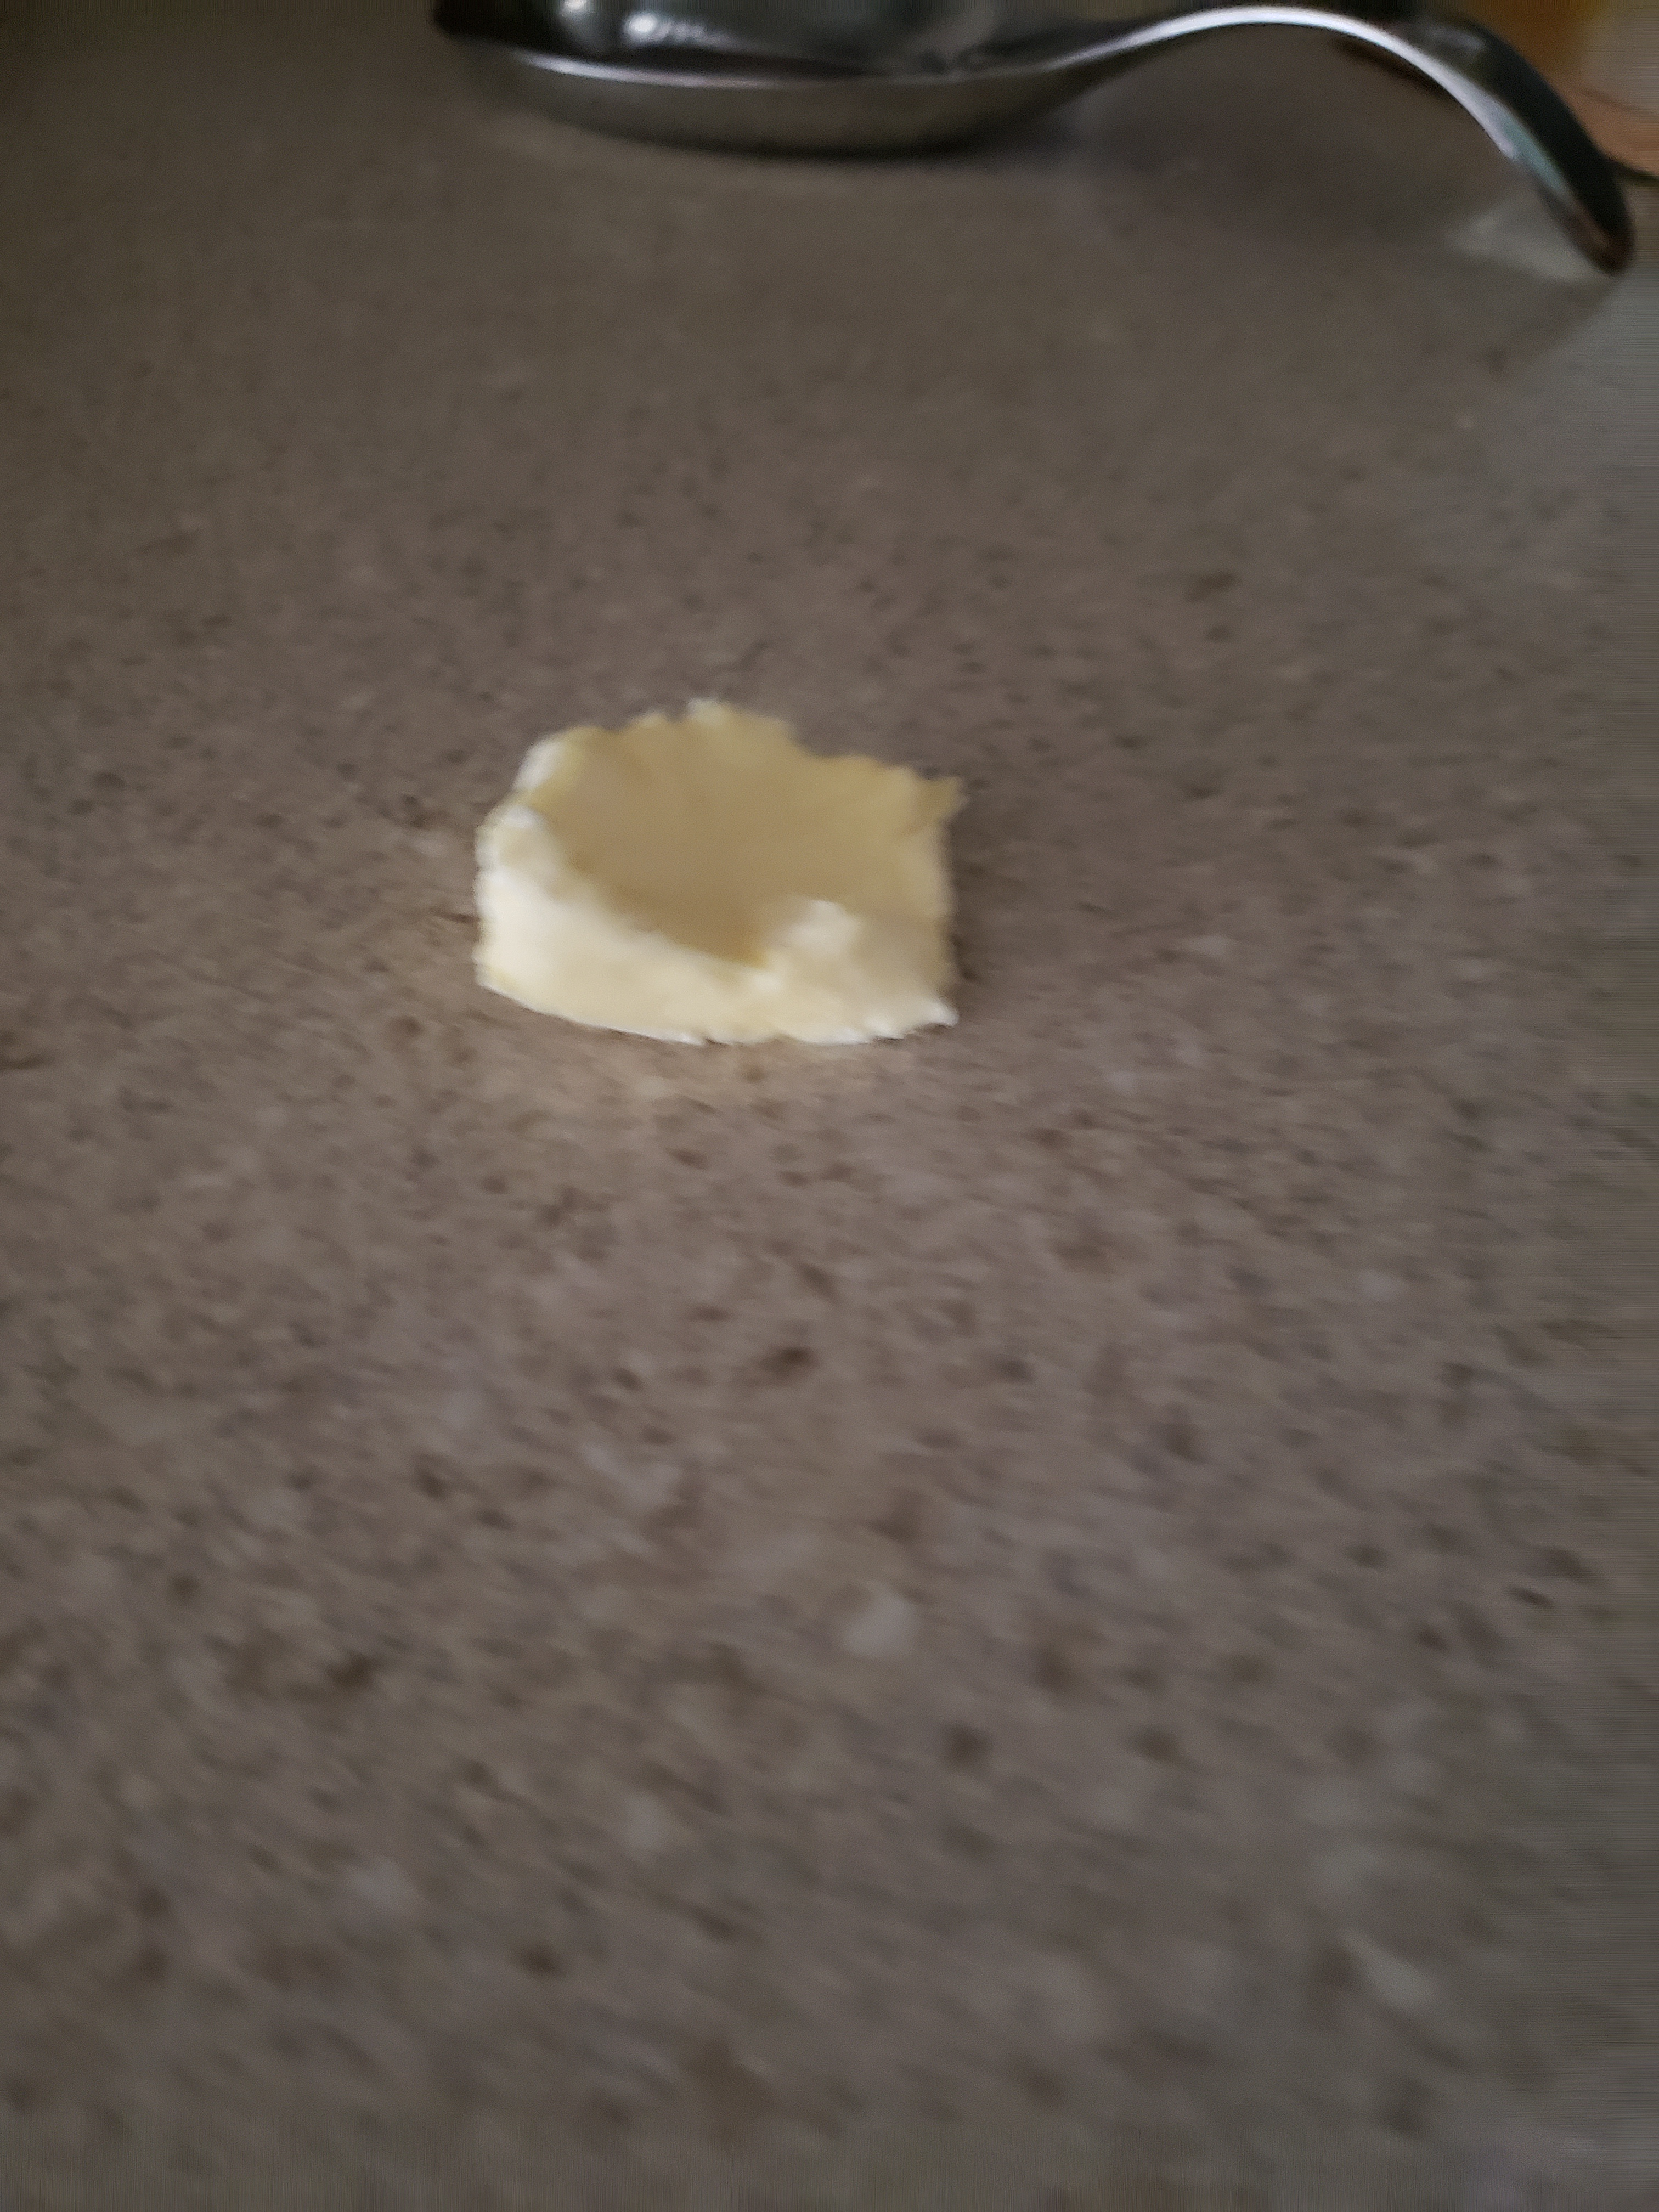Butter: (474, 693, 965, 1043)
